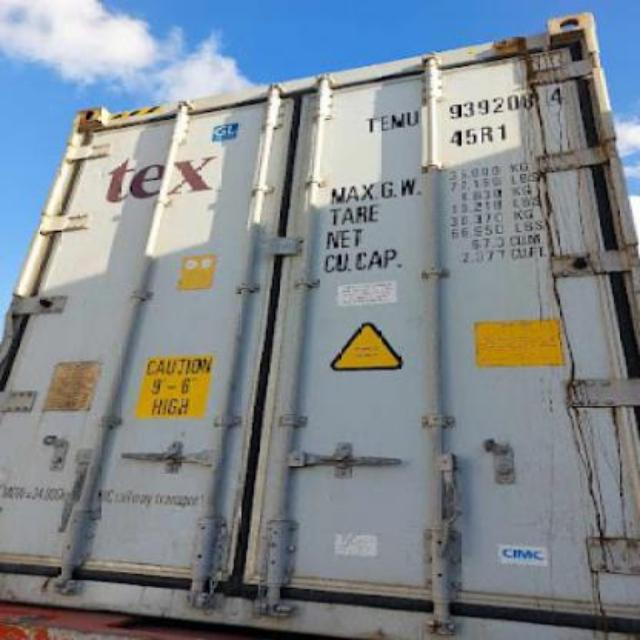0: (506, 88, 522, 114)
2: (491, 94, 504, 116)
3: (462, 98, 476, 118)
4: (544, 85, 564, 106)
8: (522, 88, 536, 112)
9: (476, 95, 492, 118), (448, 98, 462, 122)
E: (376, 108, 389, 134)
M: (388, 108, 404, 130)
T: (364, 111, 376, 132)
U: (406, 106, 422, 130)
